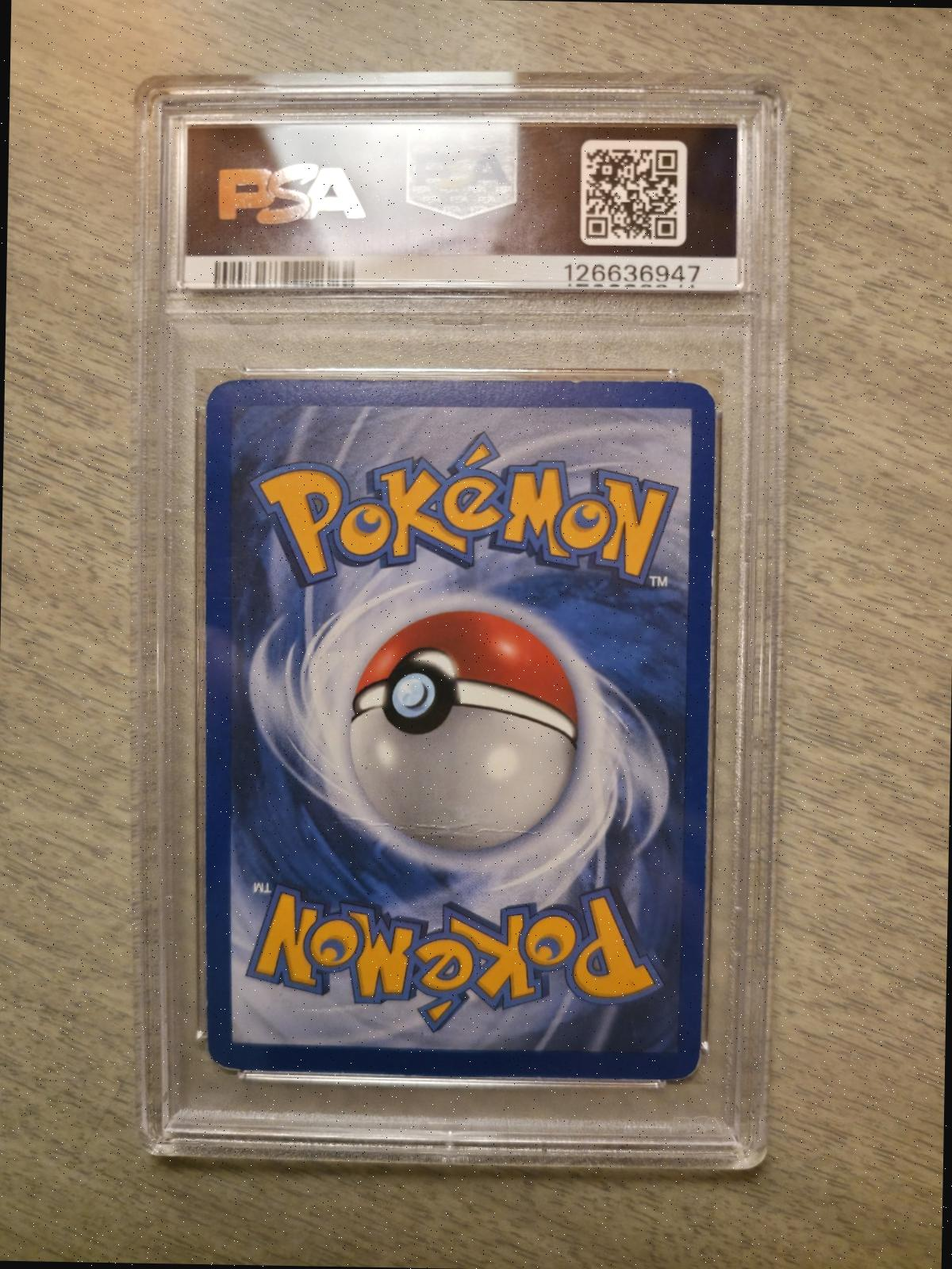card-2UtV: (206, 379, 716, 1081)
